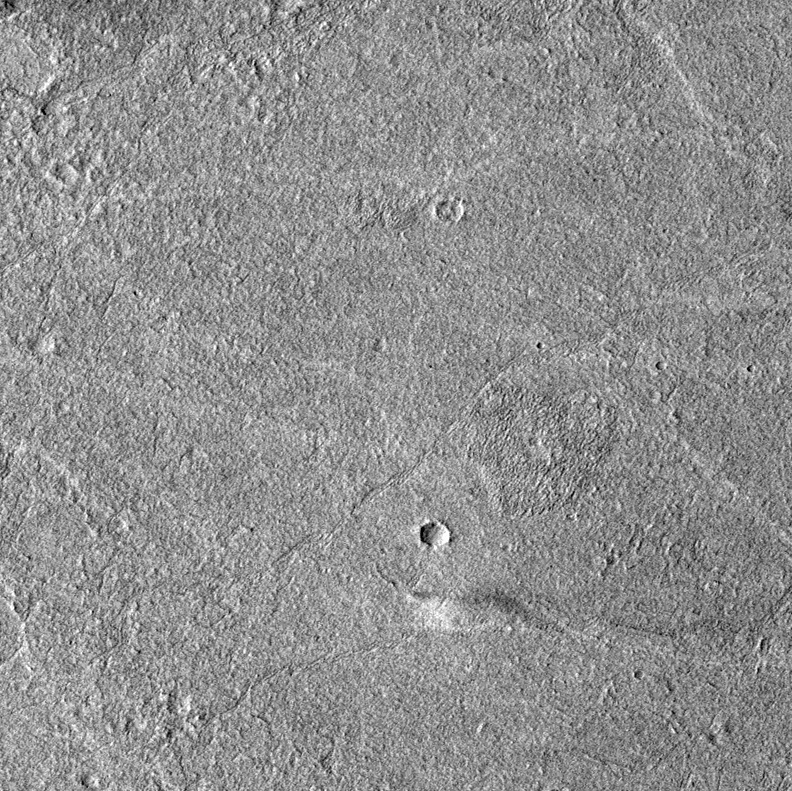dust_devil: (403, 588, 531, 632)
